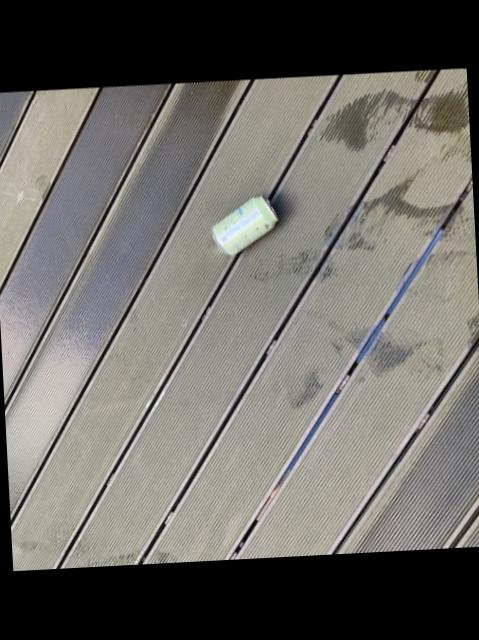metal: (211, 199, 276, 256)
